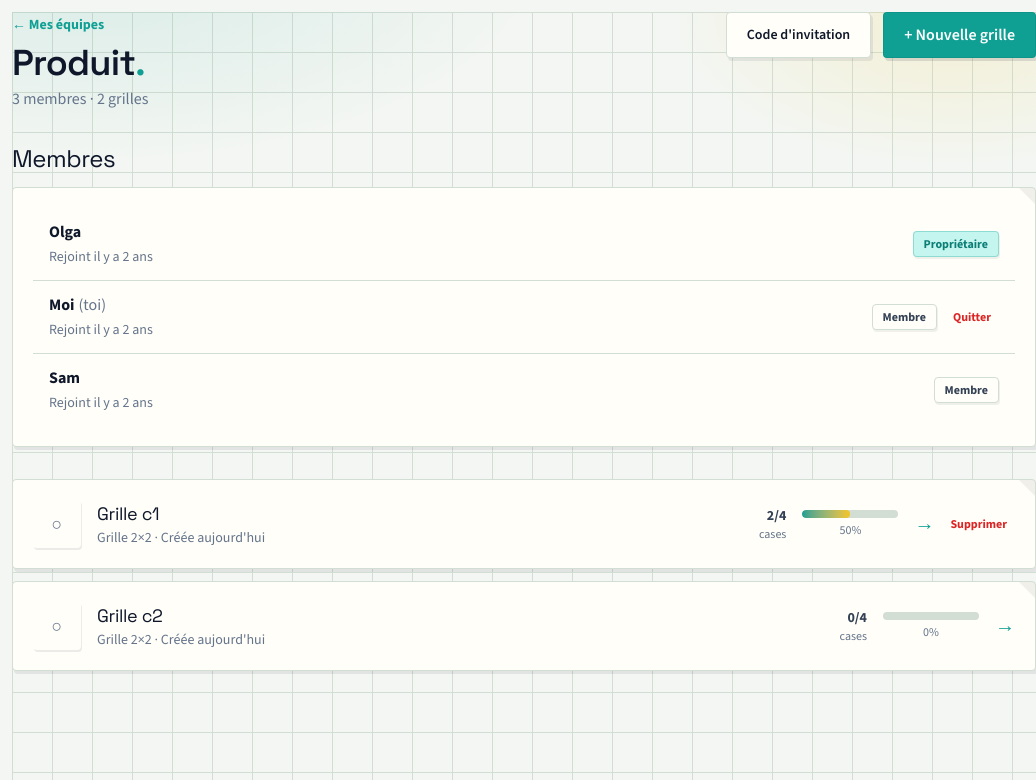
TeamClient › supprime une grille après confirmation
Click the button "Supprimer": x=979, y=524 [942,512,1015,536]
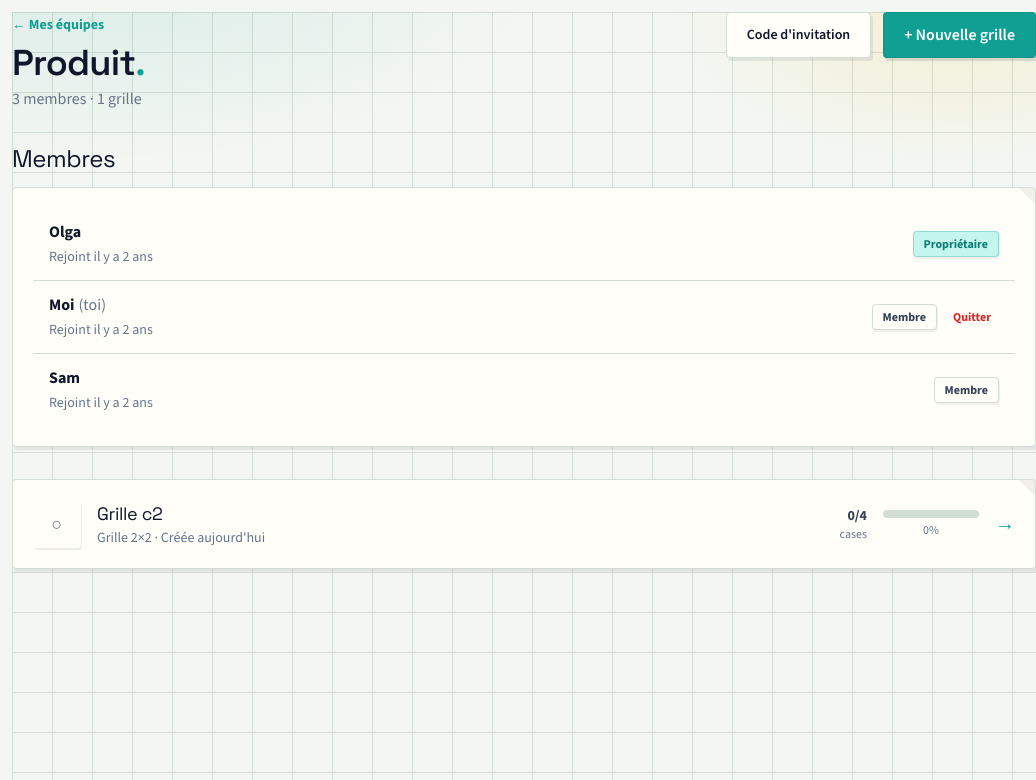
Expected: the link "Grille c1" is gone
